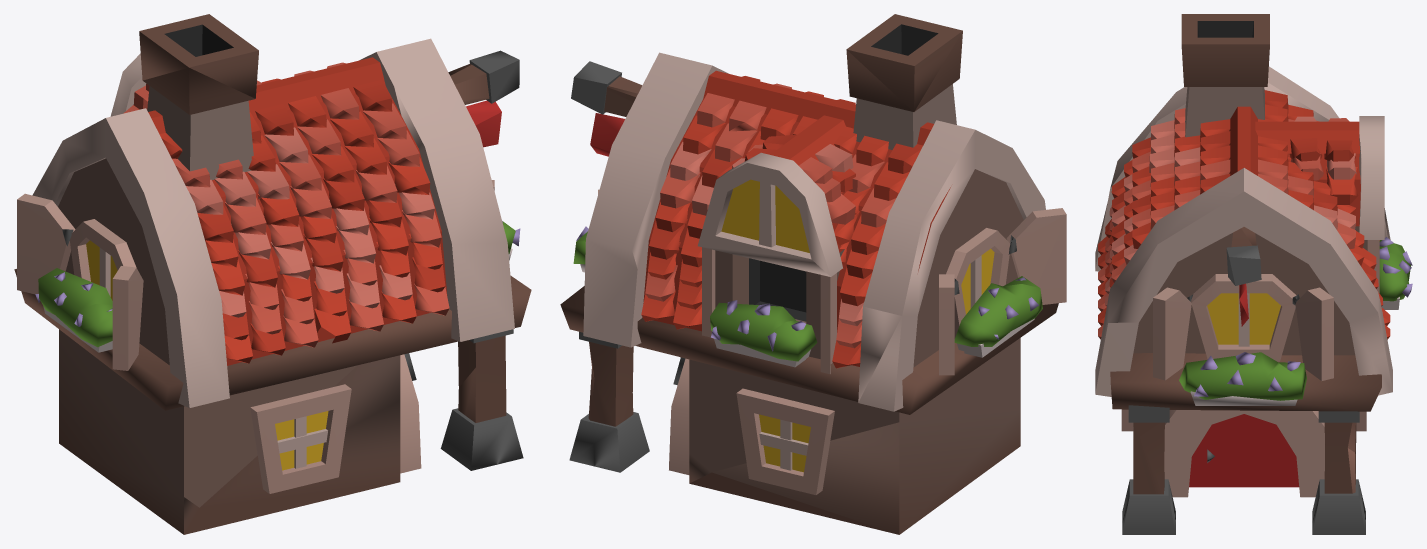
File: sn_house_b.glb
3 views of the same model, side by side, from view 1: azimuth 30°, elevation 25°; view 2: azimuth 150°, elevation 25°; view 3: azimuth 270°, elevation 25° (orthographic). The views are drawn at different scales.
Visible parts, largest first — view 1: sn_house_b; view 2: sn_house_b; view 3: sn_house_b.
Boxes of the visible parts, left/top/right/bottom form: sn_house_b: left=14, top=14, right=531, bottom=534; sn_house_b: left=560, top=14, right=1066, bottom=534; sn_house_b: left=1095, top=14, right=1412, bottom=534.
Bounding box in the file's own units: 9.38 × 8.65 × 6.37.
